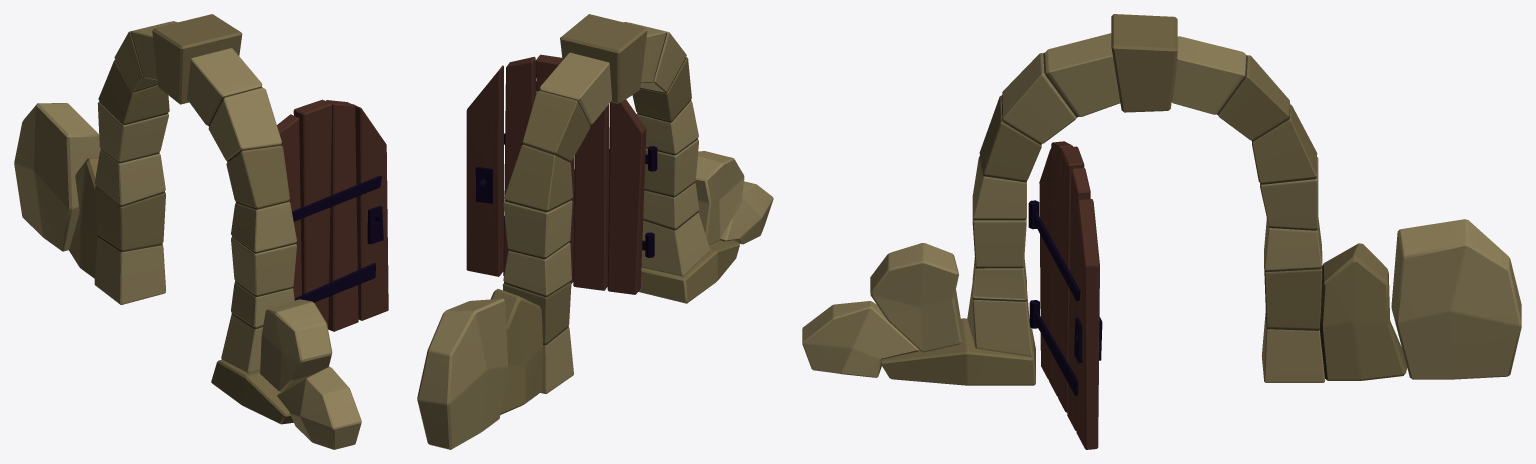
File: adventure-door-open.fbx
3 views of the same model, side by side, from view 1: azimuth 30°, elevation 25°; view 2: azimuth 150°, elevation 25°; view 3: azimuth 270°, elevation 25° (orthographic). The views are drawn at different scales.
Visible parts, largest first — view 1: pCube19, pCube31, pCube38, pCube37, pCube36, pCube18, pCube21, pCube22, pCube32, pCube33, pCube35; view 2: pCube19, pCube31, pCube38, pCube18, pCube22, pCube37, pCube21, pCube36, pCube35; view 3: pCube19, pCube38, pCube31, pCube22, pCube37, pCube36, pCube18, pCube21, pCube33, pCube32.
Boxes of the visible parts, left/top/right/bottom form: pCube19: left=94, top=21, right=296, bottom=373; pCube31: left=277, top=99, right=388, bottom=331; pCube38: left=14, top=103, right=100, bottom=251; pCube37: left=260, top=299, right=332, bottom=392; pCube36: left=277, top=366, right=361, bottom=449; pCube18: left=152, top=14, right=242, bottom=104; pCube21: left=211, top=359, right=293, bottom=424; pCube22: left=69, top=156, right=98, bottom=278; pCube32: left=292, top=175, right=381, bottom=221; pCube33: left=294, top=263, right=376, bottom=302; pCube35: left=367, top=205, right=383, bottom=244; pCube19: left=502, top=22, right=710, bottom=393; pCube31: left=466, top=54, right=646, bottom=294; pCube38: left=417, top=298, right=507, bottom=449; pCube18: left=560, top=14, right=647, bottom=103; pCube22: left=491, top=289, right=542, bottom=414; pCube37: left=695, top=151, right=744, bottom=244; pCube21: left=638, top=240, right=739, bottom=303; pCube36: left=719, top=181, right=773, bottom=244; pCube35: left=475, top=166, right=492, bottom=203; pCube19: left=967, top=33, right=1324, bottom=382; pCube38: left=1391, top=219, right=1521, bottom=379; pCube31: left=1039, top=141, right=1099, bottom=449; pCube22: left=1319, top=243, right=1407, bottom=380; pCube37: left=870, top=243, right=961, bottom=352; pCube36: left=802, top=301, right=918, bottom=377; pCube18: left=1111, top=14, right=1177, bottom=112; pCube21: left=881, top=318, right=1035, bottom=385; pCube33: left=1034, top=312, right=1078, bottom=395; pCube32: left=1034, top=213, right=1080, bottom=300.
Bounding box in the file's own units: 3.31 × 4.87 × 9.31.
